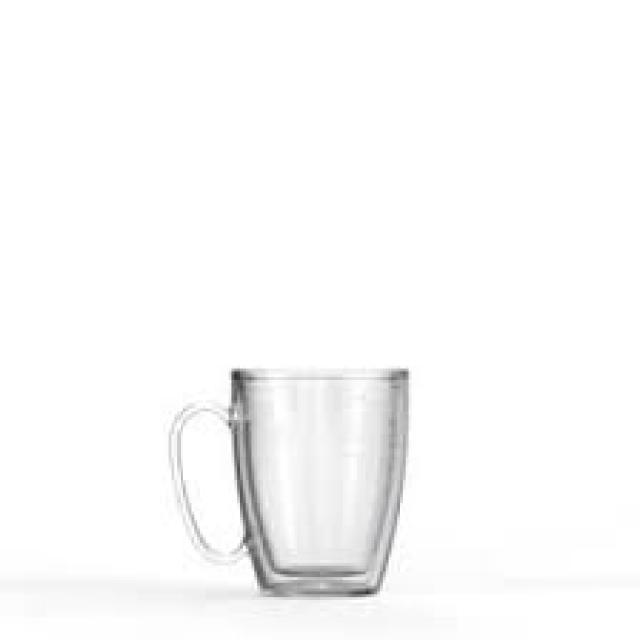Glass: (174, 362, 414, 600)
